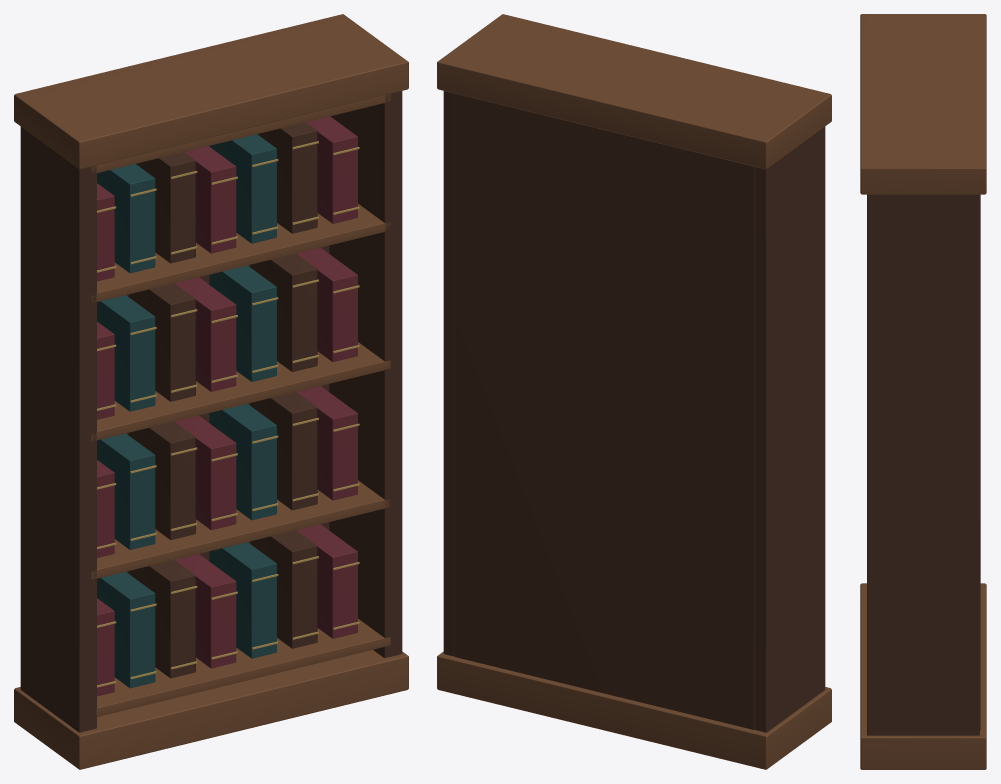
The model's file is rpg-mansion-bookcase-01.glb.
3 views of the same model, side by side, from view 1: azimuth 30°, elevation 25°; view 2: azimuth 150°, elevation 25°; view 3: azimuth 270°, elevation 25° (orthographic). The views are drawn at different scales.
Visible parts, largest first — view 1: rpg-mansion-bookcase-01; view 2: rpg-mansion-bookcase-01; view 3: rpg-mansion-bookcase-01.
Part boxes in pixels (<box>): rpg-mansion-bookcase-01: <box>14,14,408,769</box>; rpg-mansion-bookcase-01: <box>437,14,831,769</box>; rpg-mansion-bookcase-01: <box>860,14,986,769</box>.
Bounding box in the file's own units: 1.1 × 2 × 0.38.
